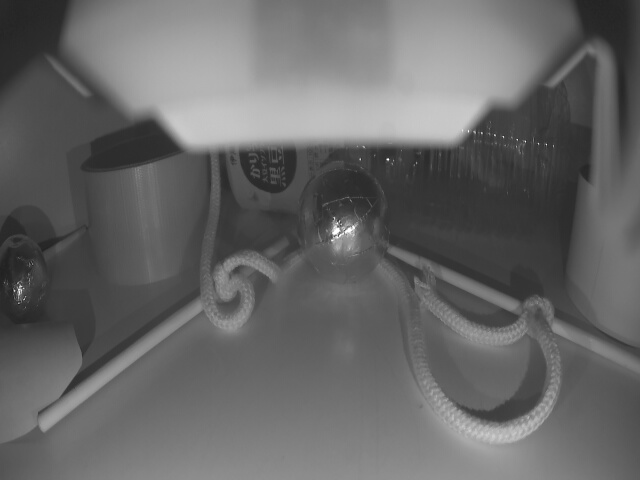Live: (300, 160, 387, 285), (0, 236, 52, 332)
